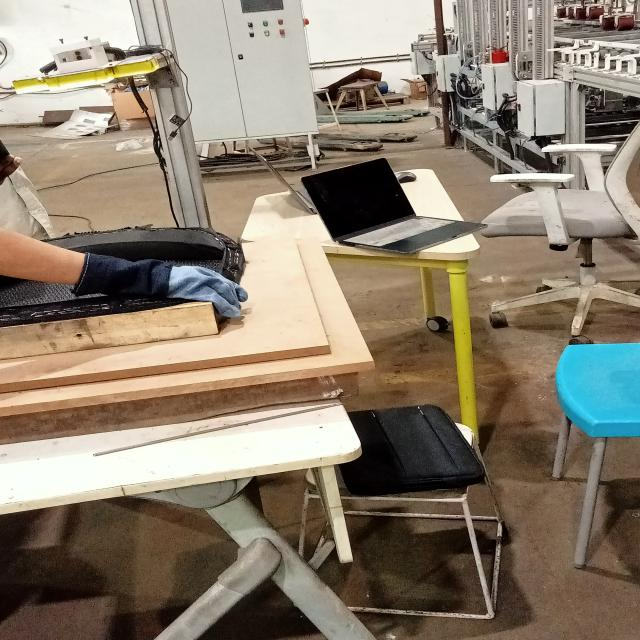Gloves-Detection: (76, 250, 238, 313)
